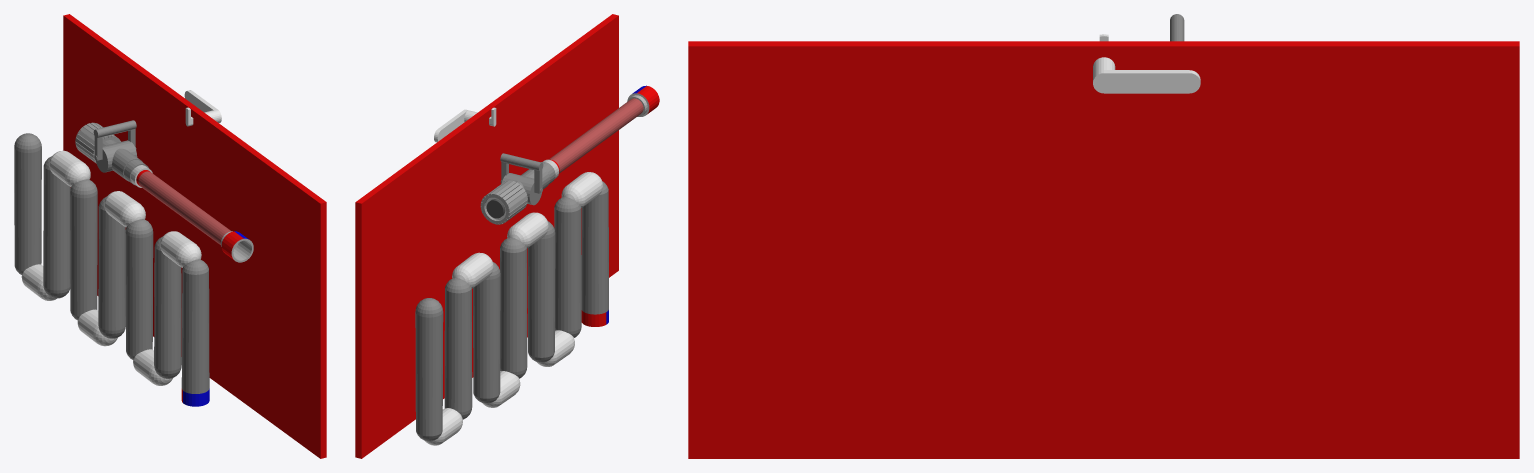
Rendered from R6_item.dae.
The picture shows the model from 3 angles, left to right: view 1: azimuth 30°, elevation 25°; view 2: azimuth 150°, elevation 25°; view 3: azimuth 270°, elevation 25°; orthographic projection. The views are drawn at different scales.
Visible parts, largest first — view 1: Group3, Group24_1, Group20_1, Group7_1, Group14_1, Group4_1, Group10_1, Group17_1, coupler_no, Group6, Group9_1, Group16_1 (+5 smaller); view 2: Group3, Group24_1, Group17_1, Group4_1, Group10_1, coupler_no, Group20_1, Group7_1, Group14_1, Group6, Group3_1, Group9_1 (+5 smaller); view 3: Group3, coupler_no.
Part boxes in pixels (x1=…): Group3: x1=63, y1=14, x2=326, y2=458; Group24_1: x1=14, y1=133, x2=41, y2=274; Group20_1: x1=70, y1=179, x2=97, y2=319; Group7_1: x1=125, y1=219, x2=153, y2=359; Group14_1: x1=181, y1=259, x2=209, y2=393; Group4_1: x1=98, y1=196, x2=125, y2=338; Group10_1: x1=154, y1=236, x2=181, y2=378; Group17_1: x1=43, y1=156, x2=70, y2=298; coupler_no: x1=75, y1=90, x2=221, y2=187; Group6: x1=138, y1=171, x2=253, y2=262; Group9_1: x1=160, y1=231, x2=201, y2=267; Group16_1: x1=49, y1=150, x2=90, y2=186; Group3: x1=355, y1=14, x2=618, y2=458; Group24_1: x1=415, y1=298, x2=443, y2=441; Group17_1: x1=444, y1=277, x2=472, y2=419; Group4_1: x1=500, y1=237, x2=527, y2=378; Group10_1: x1=554, y1=197, x2=581, y2=337; coupler_no: x1=434, y1=109, x2=559, y2=224; Group20_1: x1=473, y1=262, x2=500, y2=403; Group7_1: x1=527, y1=221, x2=555, y2=362; Group14_1: x1=581, y1=181, x2=608, y2=314; Group6: x1=549, y1=85, x2=659, y2=173; Group3_1: x1=507, y1=212, x2=548, y2=248; Group9_1: x1=561, y1=172, x2=602, y2=207; Group3: x1=688, y1=41, x2=1519, y2=458; coupler_no: x1=1093, y1=14, x2=1200, y2=93.
Bounding box in the file's own units: 0.2086 × 0.926 × 0.5111.
